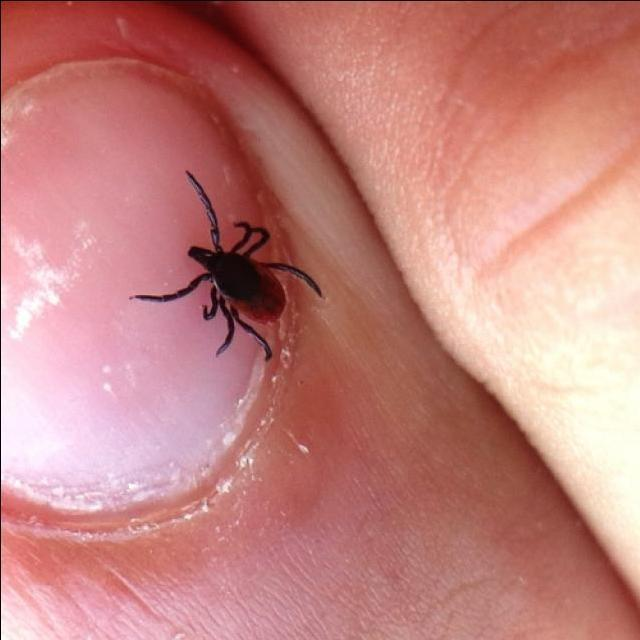Ixodes Ricinus-F: (128, 168, 324, 366)
